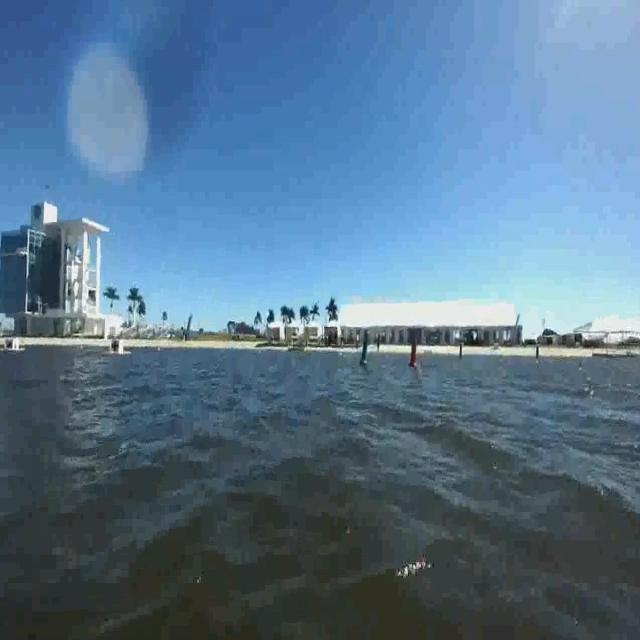green-column-buoy: (359, 330, 371, 367)
red-column-buoy: (409, 342, 420, 370)
